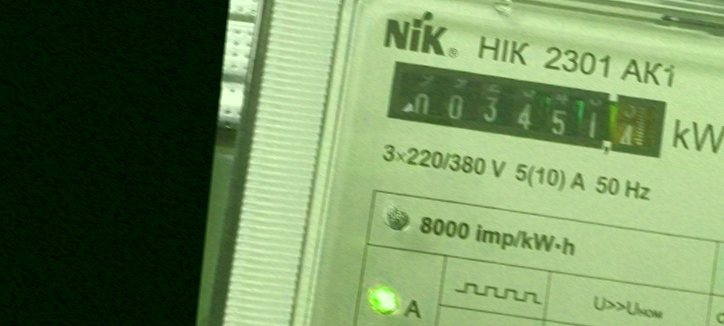0: (409, 86, 432, 115), (444, 90, 466, 120)
1: (583, 106, 602, 139)
3: (479, 90, 501, 123)
4: (512, 98, 535, 132), (614, 118, 637, 148)
5: (548, 104, 568, 136)
screen: (378, 53, 674, 165)
